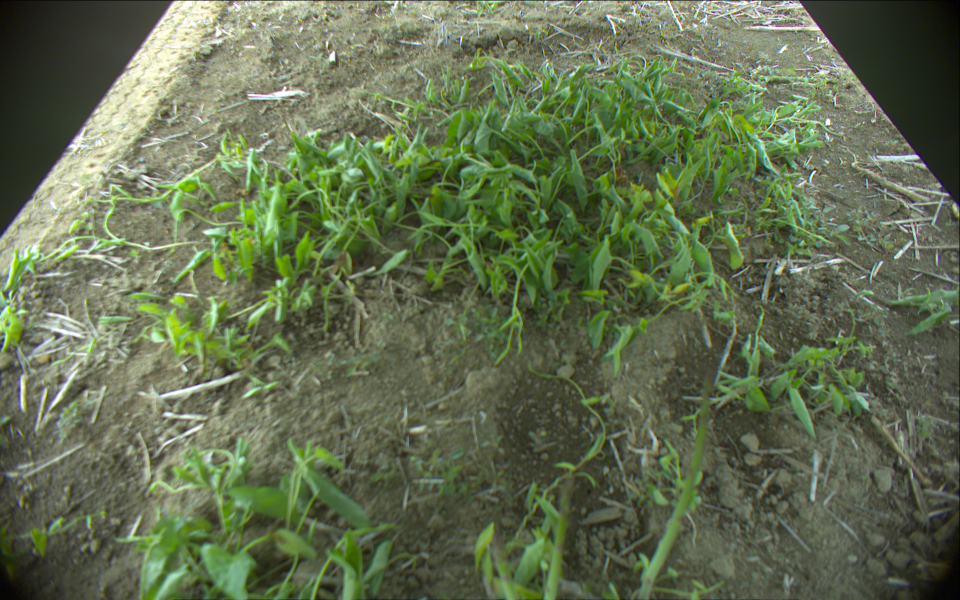aspa: (637, 367, 715, 599), (543, 473, 575, 600)
